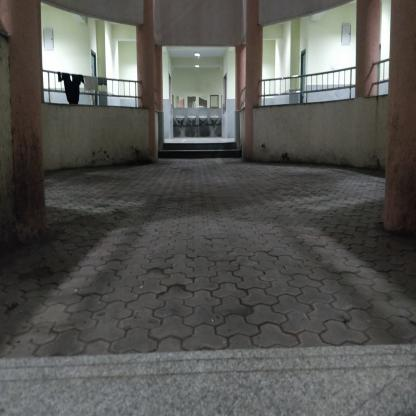stairs: (167, 142, 235, 161)
